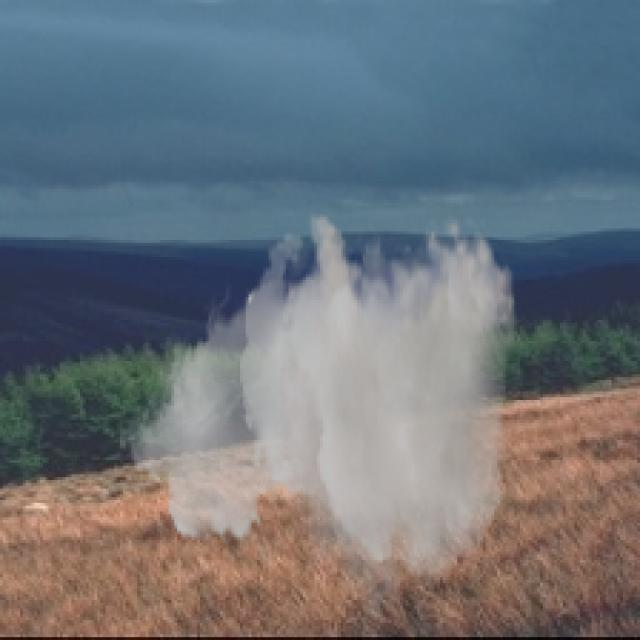smoke: (117, 212, 517, 632)
